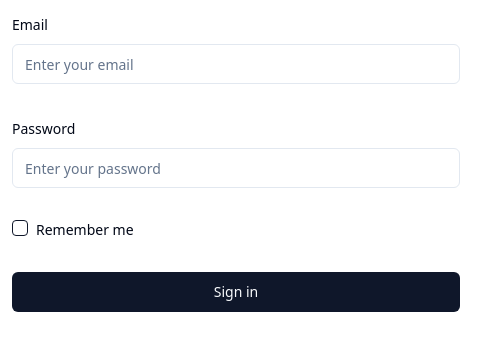
Test: LoginForm › validates email format
// Enter invalid email
Type "invalid-email" into the field labelled "Email" at (236, 64), box [12,44,460,84]
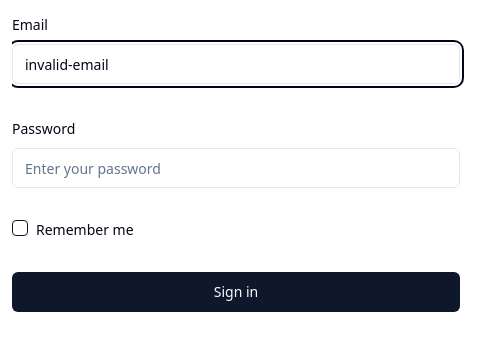
Type "password123" into the password field labelled "Password" at (236, 168), box [12,148,460,188]
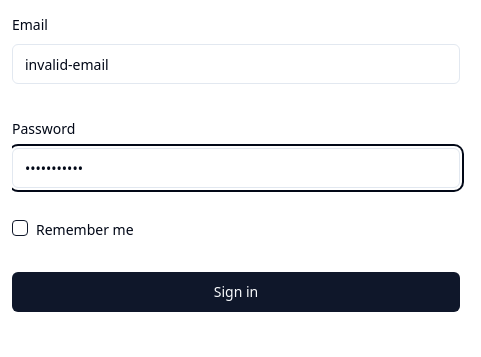
// Submit form
Click the button "Sign in" at (236, 292), box [12,272,460,312]
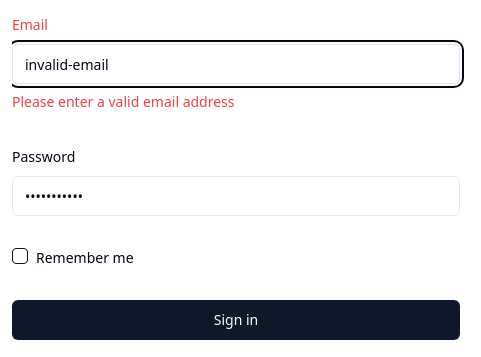
Check: the text "Please enter a valid email address" is shown, box [12,92,234,111]
